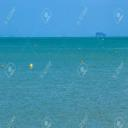yellow: (29, 64, 33, 68)
